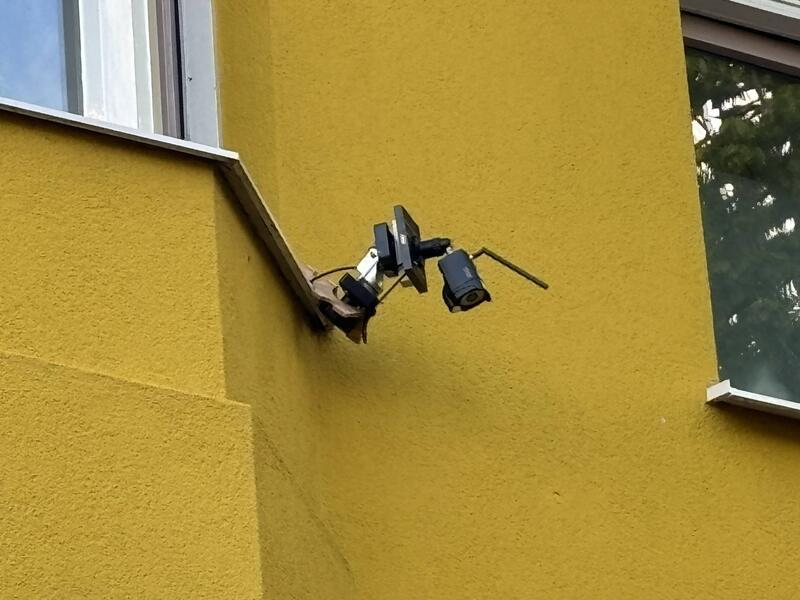bullet: (427, 246, 495, 315)
